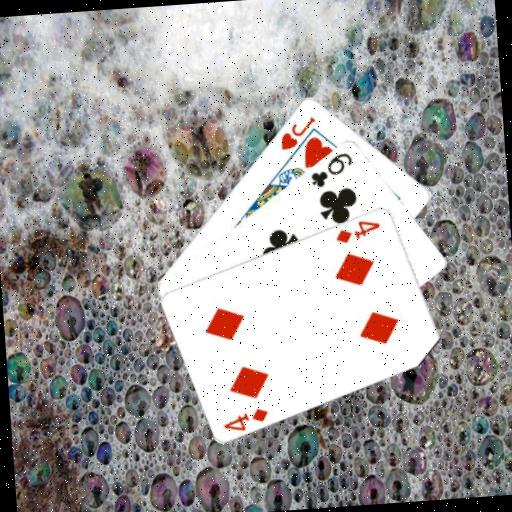4D: (332, 216, 384, 245), (220, 404, 272, 433)
6C: (306, 148, 356, 190)
JH: (276, 113, 319, 152)
